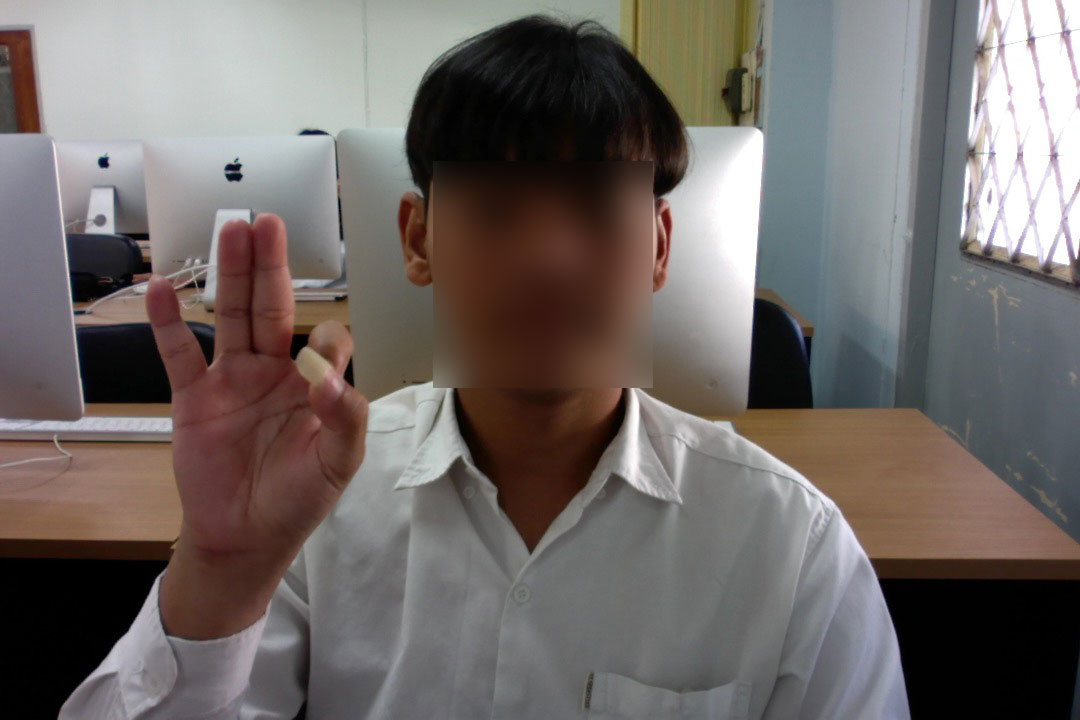for: (116, 189, 385, 590)
